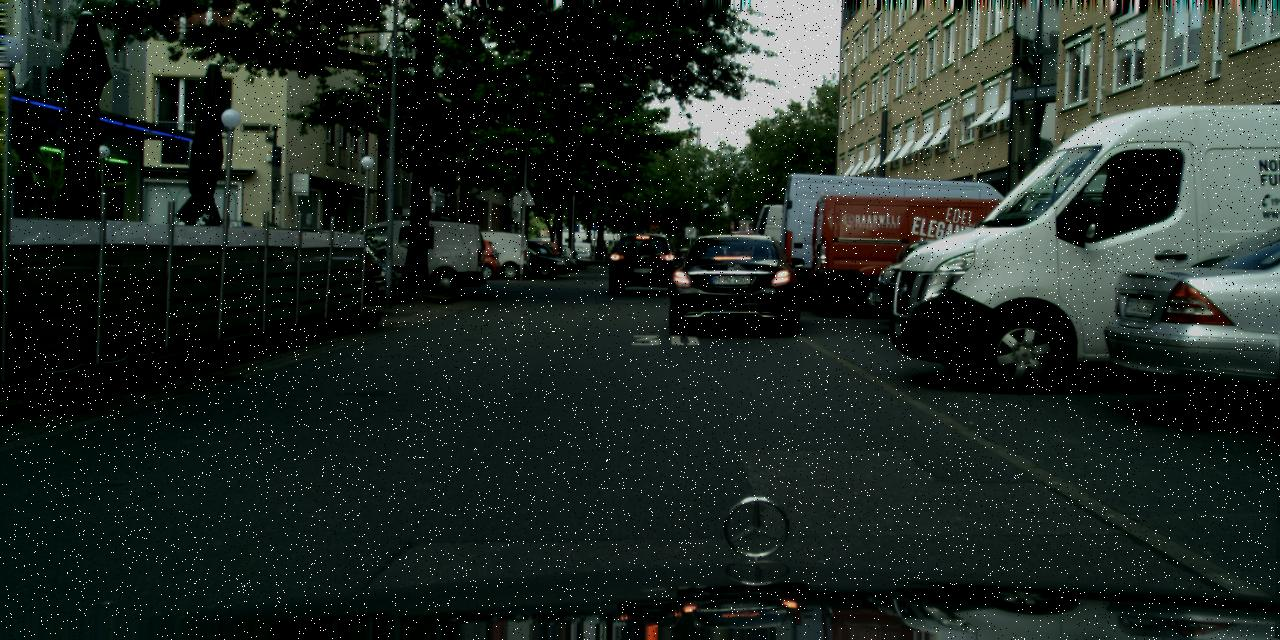ped: (600, 243, 608, 260)
